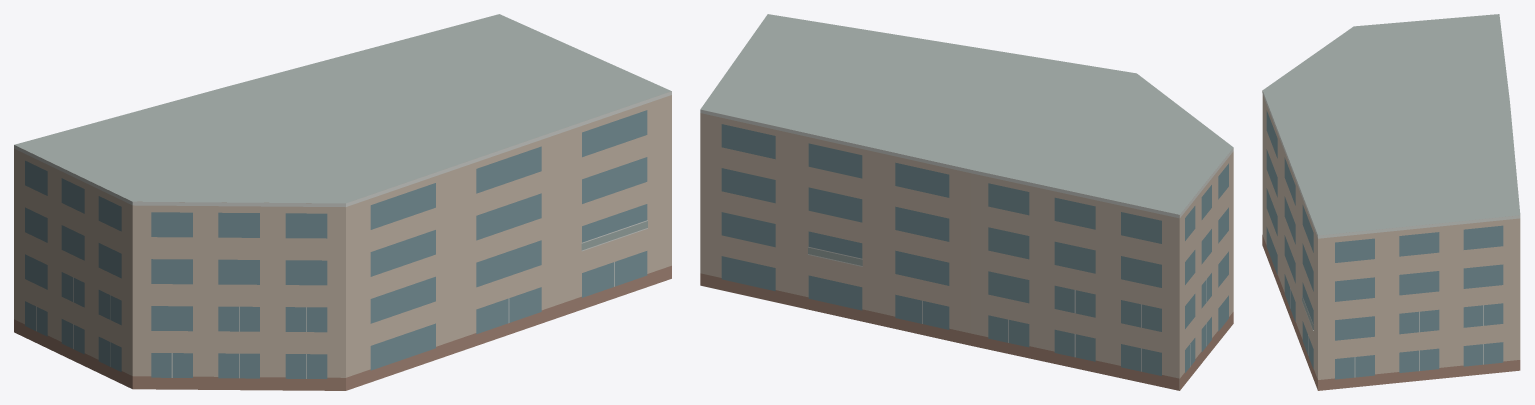
Rendered from residential-29692e4b-aef4-4cb9-bb49-8024d12eef69.glb.
The picture shows the model from 3 angles, left to right: view 1: azimuth 30°, elevation 25°; view 2: azimuth 150°, elevation 25°; view 3: azimuth 270°, elevation 25°; orthographic projection. The views are drawn at different scales.
Parts seen in each view (by area): view 1: residential-29692e4b-aef4-4cb9-bb49-8024d12eef69.tmp; view 2: residential-29692e4b-aef4-4cb9-bb49-8024d12eef69.tmp; view 3: residential-29692e4b-aef4-4cb9-bb49-8024d12eef69.tmp.
Part boxes in pixels (left/top/right/bottom): residential-29692e4b-aef4-4cb9-bb49-8024d12eef69.tmp: left=14, top=14, right=671, bottom=390; residential-29692e4b-aef4-4cb9-bb49-8024d12eef69.tmp: left=700, top=14, right=1233, bottom=390; residential-29692e4b-aef4-4cb9-bb49-8024d12eef69.tmp: left=1262, top=14, right=1520, bottom=390.
Size of the model in its own units: 37.34 by 12.2 by 18.37.
